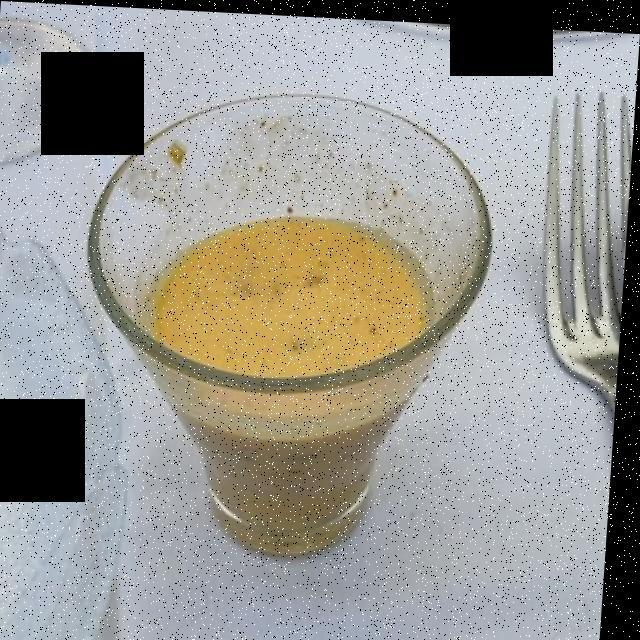curry-vegetarian: (149, 214, 411, 524)
